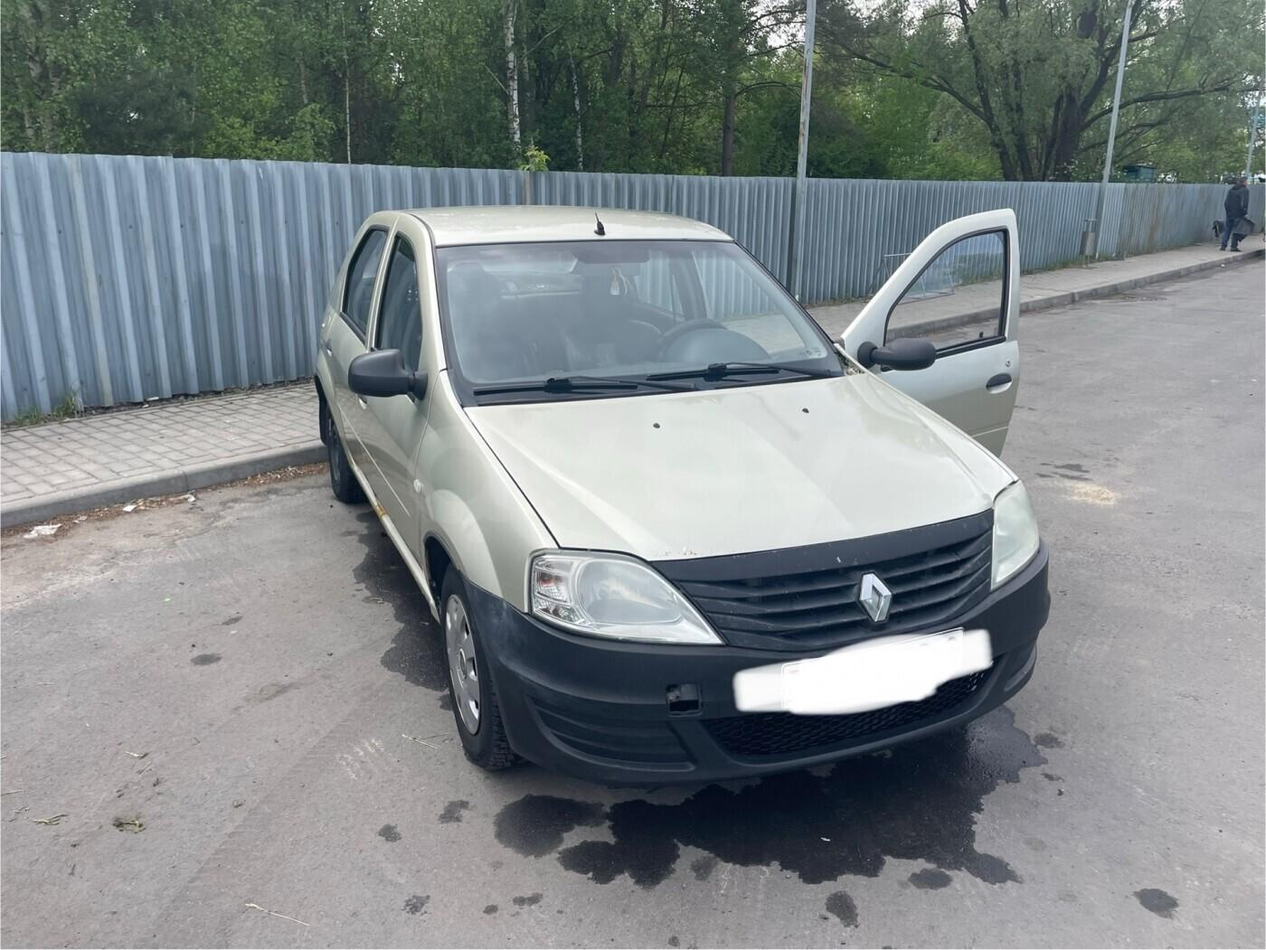Logan_2008-2015: (313, 201, 1055, 814)
